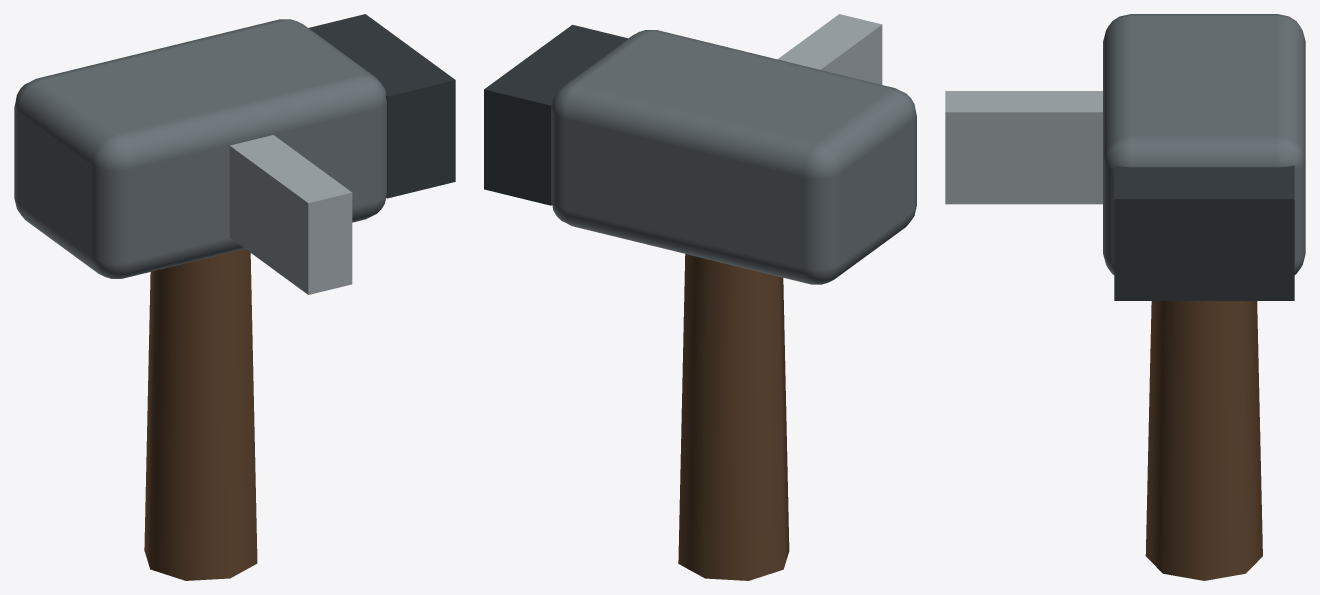
The model's file is warhammer.glb.
The picture shows the model from 3 angles, left to right: view 1: azimuth 30°, elevation 25°; view 2: azimuth 150°, elevation 25°; view 3: azimuth 270°, elevation 25°; orthographic projection. The views are drawn at different scales.
Parts seen in each view (by area): view 1: warhammer-head, warhammer-grip, warhammer-face, warhammer-peen; view 2: warhammer-head, warhammer-grip, warhammer-peen, warhammer-face; view 3: warhammer-head, warhammer-grip, warhammer-peen, warhammer-face.
Boxes of the visible parts, left/top/right/bottom form: warhammer-head: left=14, top=19, right=386, bottom=278; warhammer-grip: left=144, top=249, right=257, bottom=580; warhammer-face: left=229, top=135, right=352, bottom=294; warhammer-peen: left=309, top=14, right=455, bottom=198; warhammer-head: left=551, top=30, right=916, bottom=284; warhammer-grip: left=678, top=254, right=789, bottom=580; warhammer-peen: left=484, top=24, right=627, bottom=205; warhammer-face: left=778, top=14, right=882, bottom=84; warhammer-head: left=1103, top=14, right=1305, bottom=274; warhammer-grip: left=1145, top=301, right=1262, bottom=580; warhammer-peen: left=1114, top=165, right=1294, bottom=300; warhammer-face: left=945, top=91, right=1102, bottom=204.
Size of the model in its own units: 0.365 by 0.47 by 0.32.
